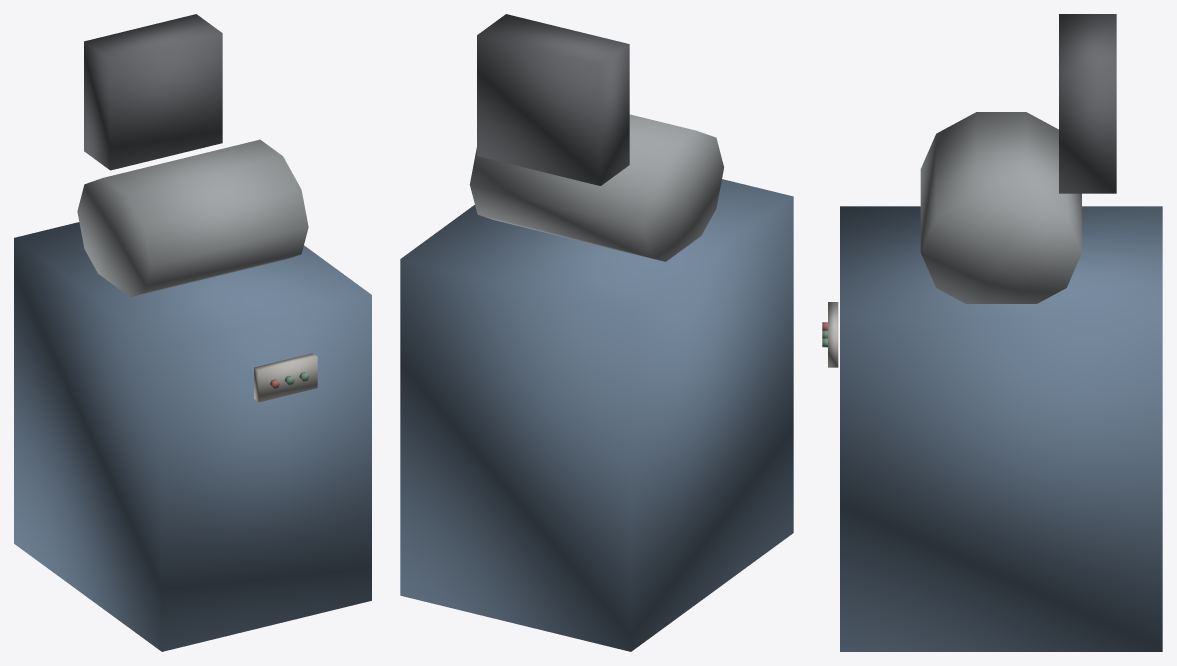
File: tire_changer__deep.glb
3 views of the same model, side by side, from view 1: azimuth 30°, elevation 25°; view 2: azimuth 150°, elevation 25°; view 3: azimuth 270°, elevation 25° (orthographic). The views are drawn at different scales.
Visible parts, largest first — view 1: world; view 2: world; view 3: world.
Part boxes in pixels (box(x1,y1,x2,y2)): world: box(14, 14, 371, 651); world: box(400, 14, 793, 651); world: box(822, 14, 1162, 651).
Size of the model in its own units: 0.56 by 1.29 by 0.721.
